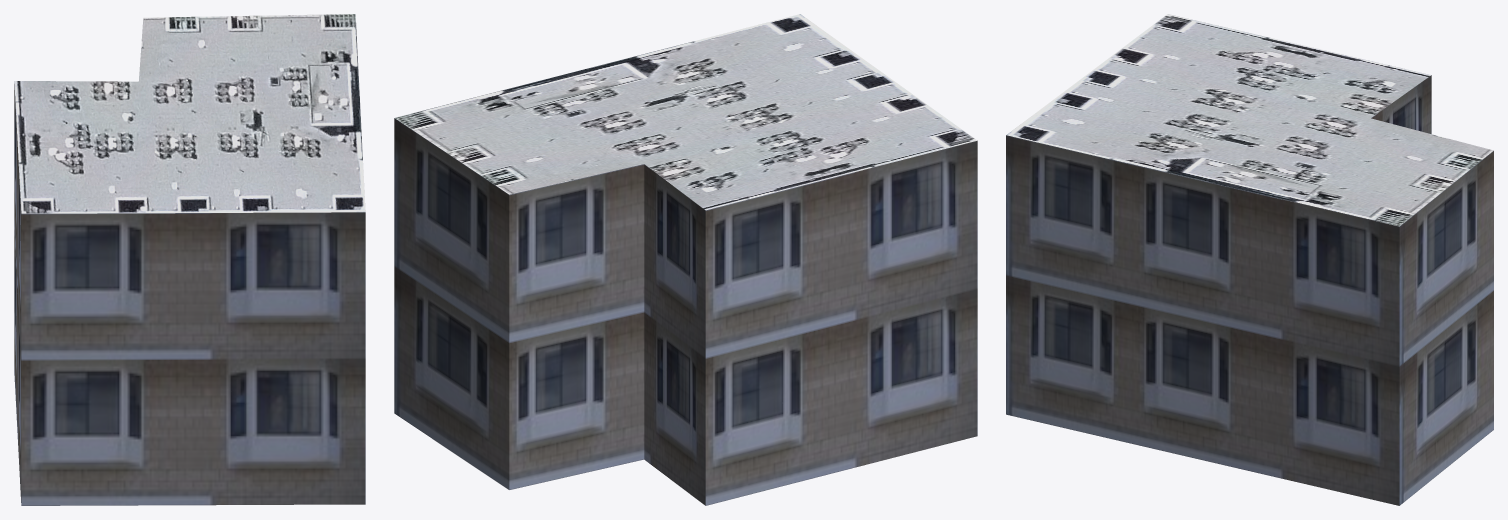
The model's file is ResTex__1205.fbx.
3 renders of one model, left to right at view 1: azimuth 30°, elevation 25°; view 2: azimuth 150°, elevation 25°; view 3: azimuth 270°, elevation 25°, orthographic. The views are drawn at different scales.
Visible parts, largest first — view 1: CityEngineMaterial_3_m, CityEngineMaterial_8_m; view 2: CityEngineMaterial_3_m, CityEngineMaterial_8_m; view 3: CityEngineMaterial_3_m, CityEngineMaterial_8_m.
Part boxes in pixels (box(x1,y1,x2,y2)): CityEngineMaterial_3_m: box(14, 84, 365, 505); CityEngineMaterial_8_m: box(14, 14, 365, 213); CityEngineMaterial_3_m: box(394, 118, 977, 505); CityEngineMaterial_8_m: box(395, 14, 976, 210); CityEngineMaterial_3_m: box(1006, 75, 1493, 505); CityEngineMaterial_8_m: box(1006, 14, 1493, 226).
Bounding box in the file's own units: 9.79 × 6 × 9.49.
2 materials, 2 textured.
